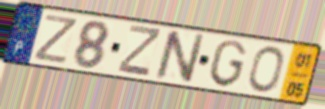8: (70, 19, 111, 71)
G: (206, 39, 249, 90)
N: (153, 29, 208, 85)
O: (246, 44, 286, 95)
Z: (115, 23, 164, 80), (31, 12, 81, 66)
